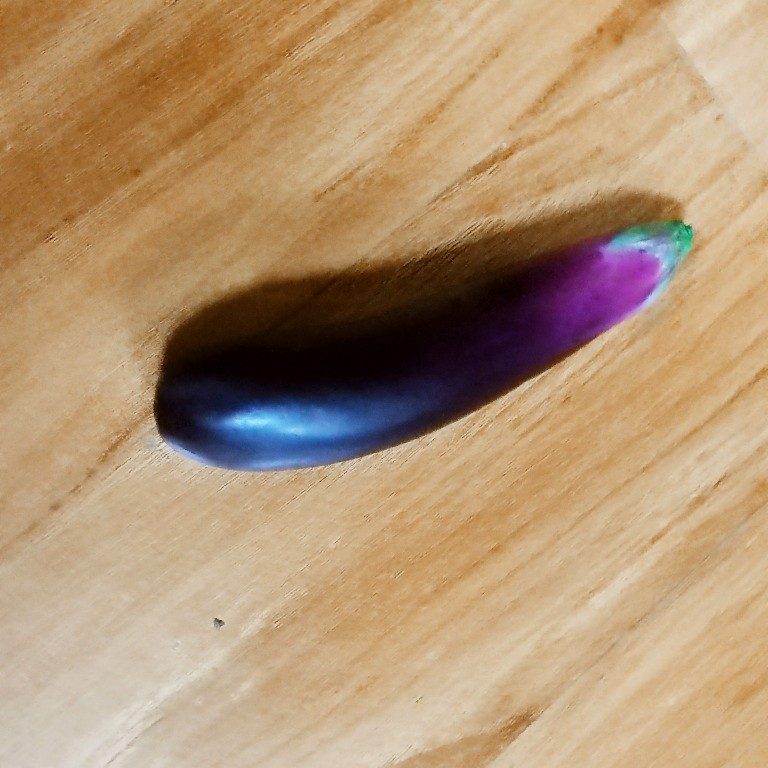fruit_eggplant: (149, 213, 696, 478)
